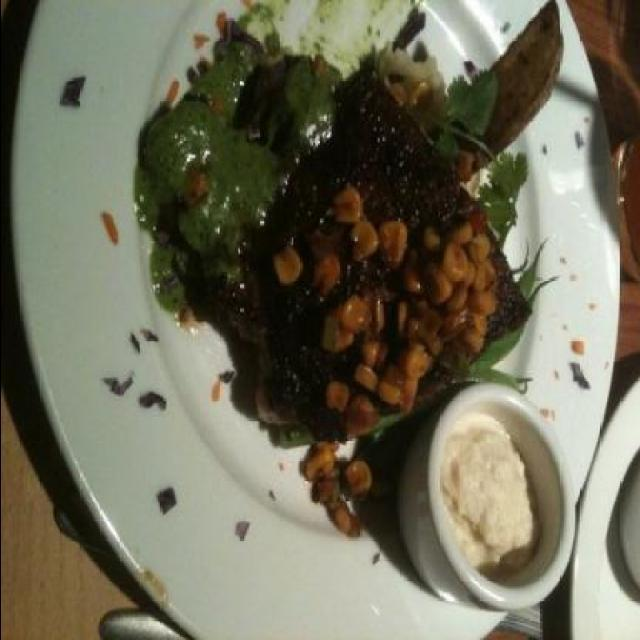Steak: (147, 38, 524, 414)
